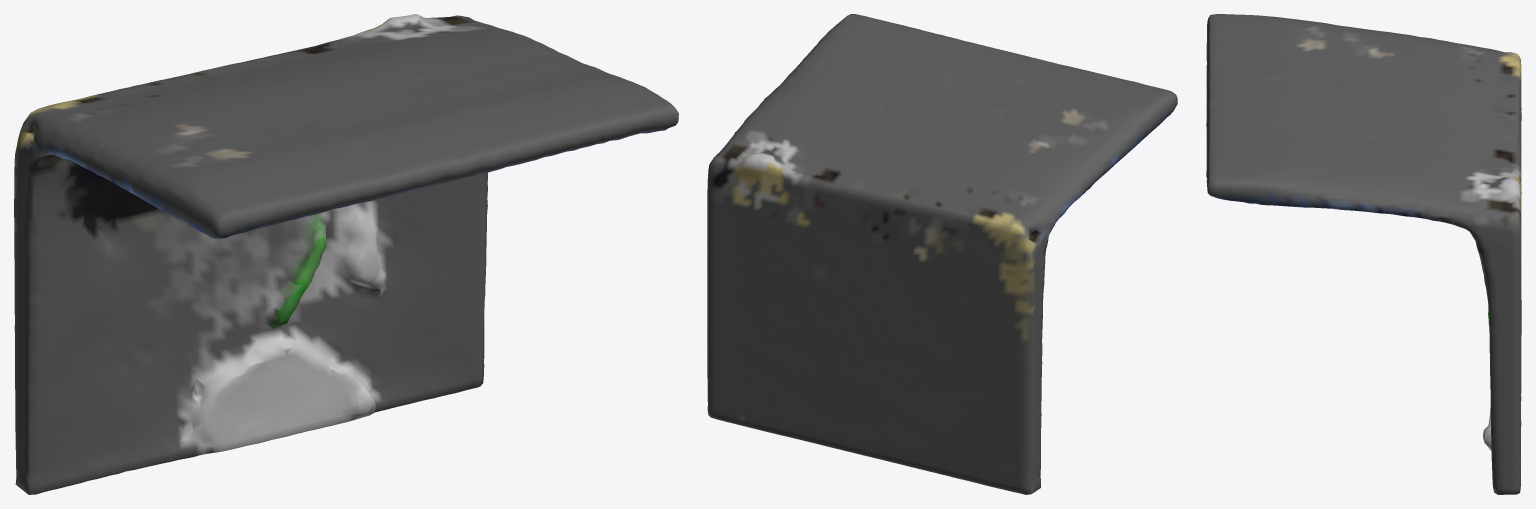
The model's file is a laptop with affordances of display, press.obj.
3 views of the same model, side by side, from view 1: azimuth 30°, elevation 25°; view 2: azimuth 150°, elevation 25°; view 3: azimuth 270°, elevation 25° (orthographic). The views are drawn at different scales.
Size of the model in its own units: 1 by 0.8698 by 0.781.
